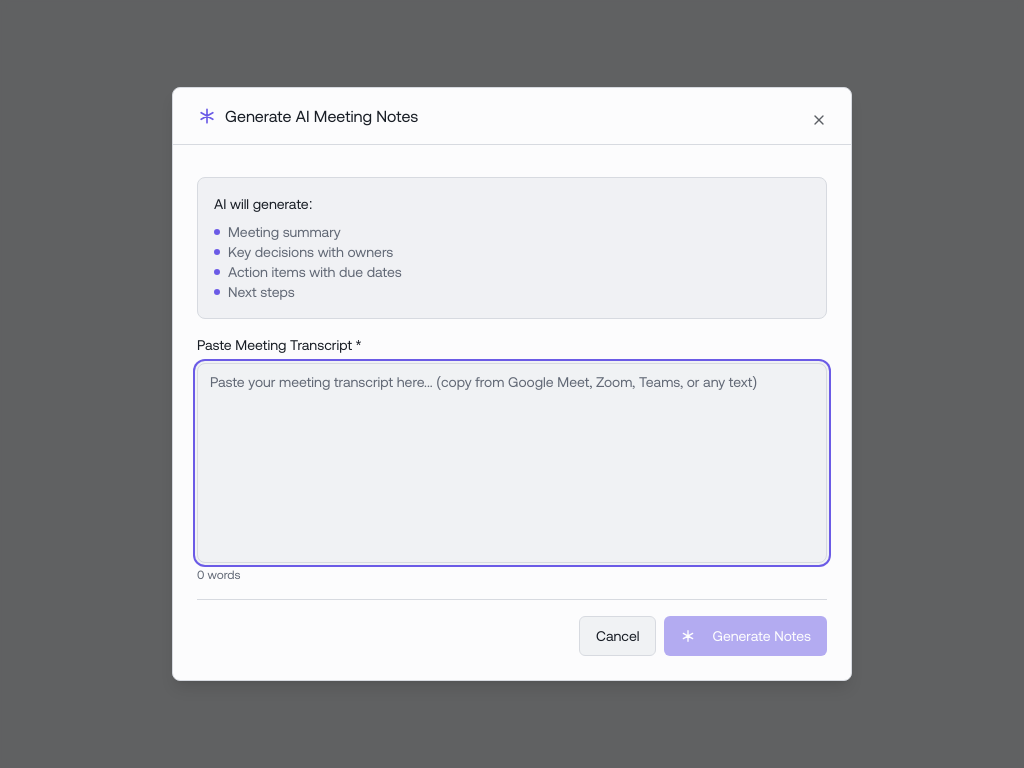
GenerateAiNotesDialog with a background job › shows progress while the job runs, then reports success
Replace the text in the text box with placeholder "Paste your meeting transcript" with "Alice: hi": (512, 463) x1=197 y1=363 x2=827 y2=563
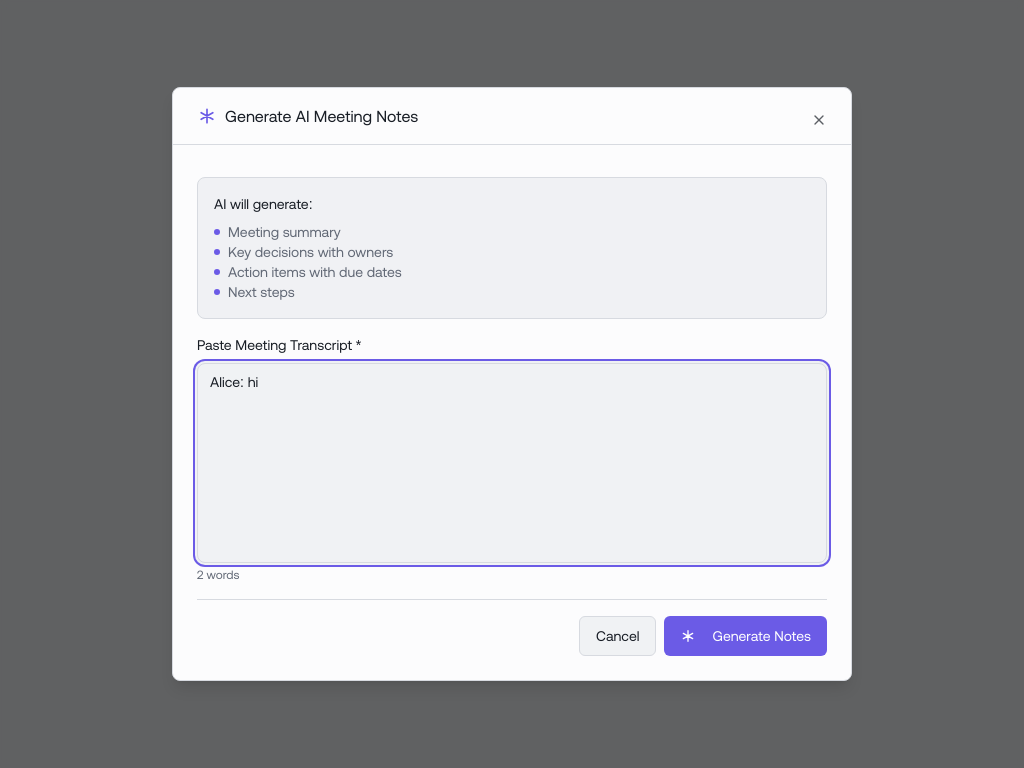
Click the button "Generate Notes": (746, 636) x1=664 y1=616 x2=827 y2=656
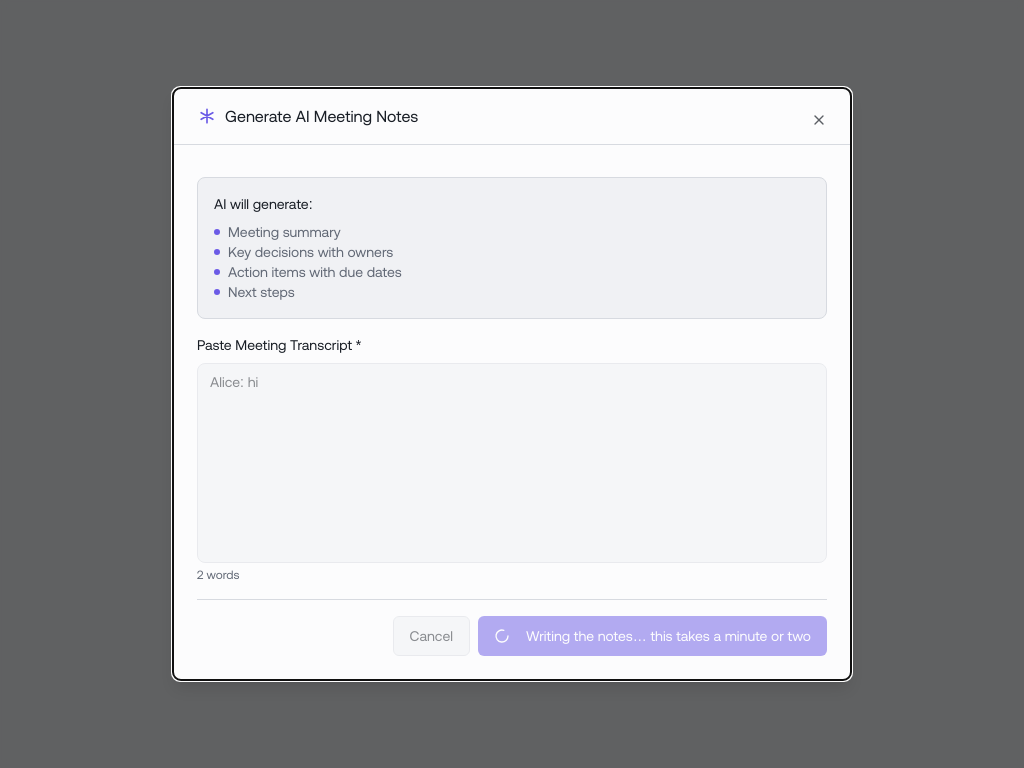
Expected: the button "Writing the notes… this takes a minute or two" is shown, x1=478 y1=616 x2=827 y2=656
